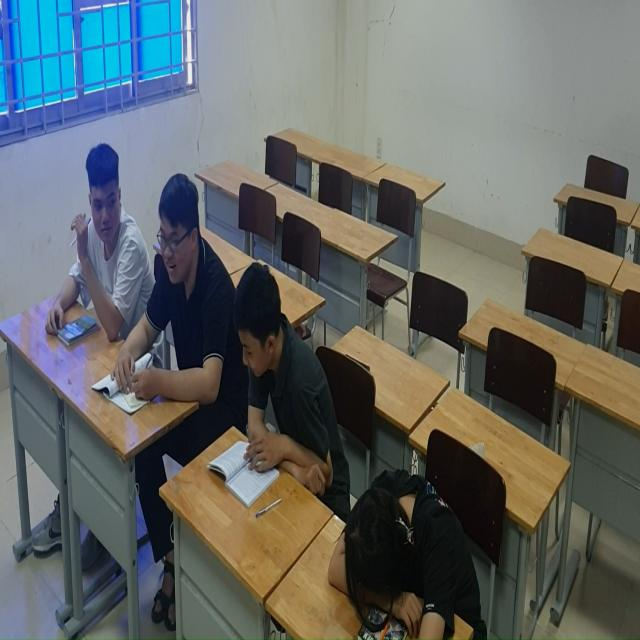read: (222, 245, 350, 504), (113, 184, 225, 431), (41, 153, 145, 363)
sleep: (331, 481, 473, 640)
